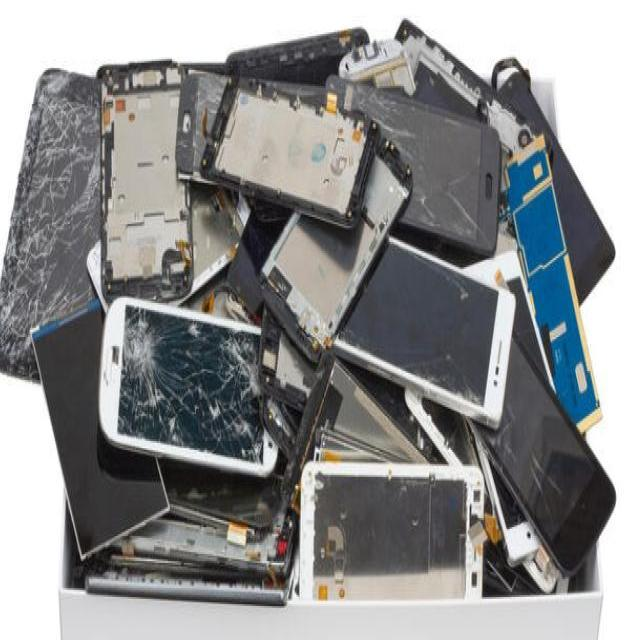electronic: (0, 18, 617, 620), (304, 194, 538, 450), (93, 284, 305, 546), (301, 435, 491, 622), (98, 38, 206, 330)
